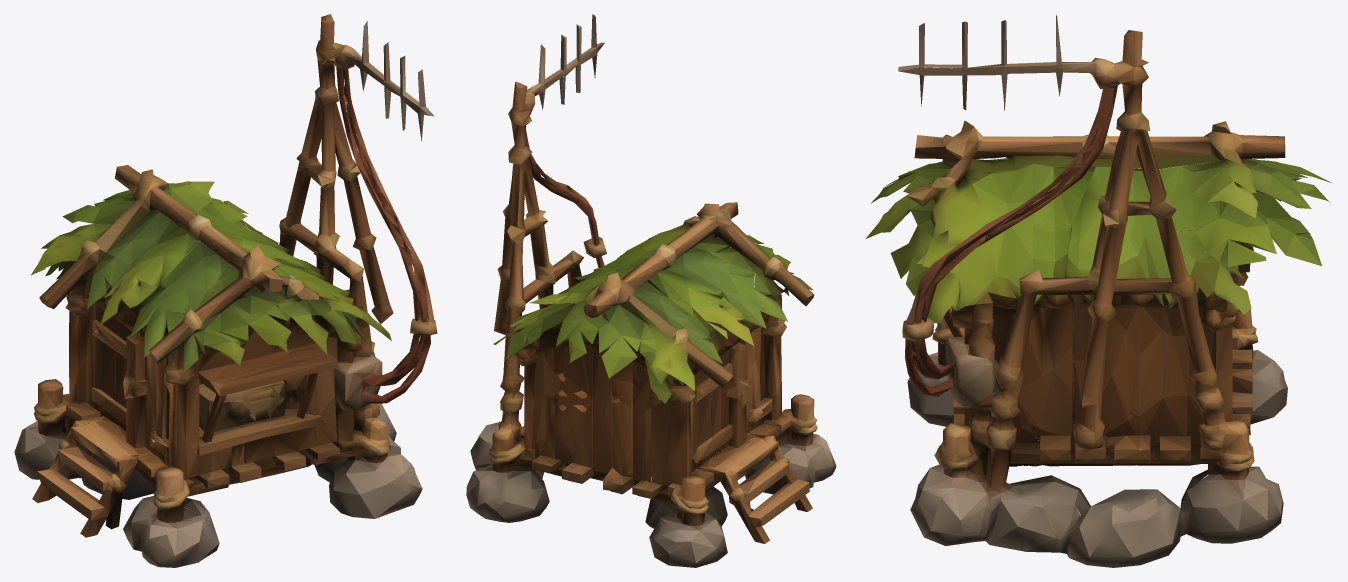
The model's file is building-radioStation.glb.
3 views of the same model, side by side, from view 1: azimuth 30°, elevation 25°; view 2: azimuth 150°, elevation 25°; view 3: azimuth 270°, elevation 25° (orthographic). The views are drawn at different scales.
Parts seen in each view (by area): view 1: 0_radioStation; view 2: 0_radioStation; view 3: 0_radioStation.
Part boxes in pixels (x1=…): 0_radioStation: x1=14, y1=14, x2=437, y2=567; 0_radioStation: x1=466, y1=14, x2=836, y2=567; 0_radioStation: x1=865, y1=14, x2=1332, y2=567.
Bounding box in the file's own units: 3.79 × 4.77 × 3.83.
